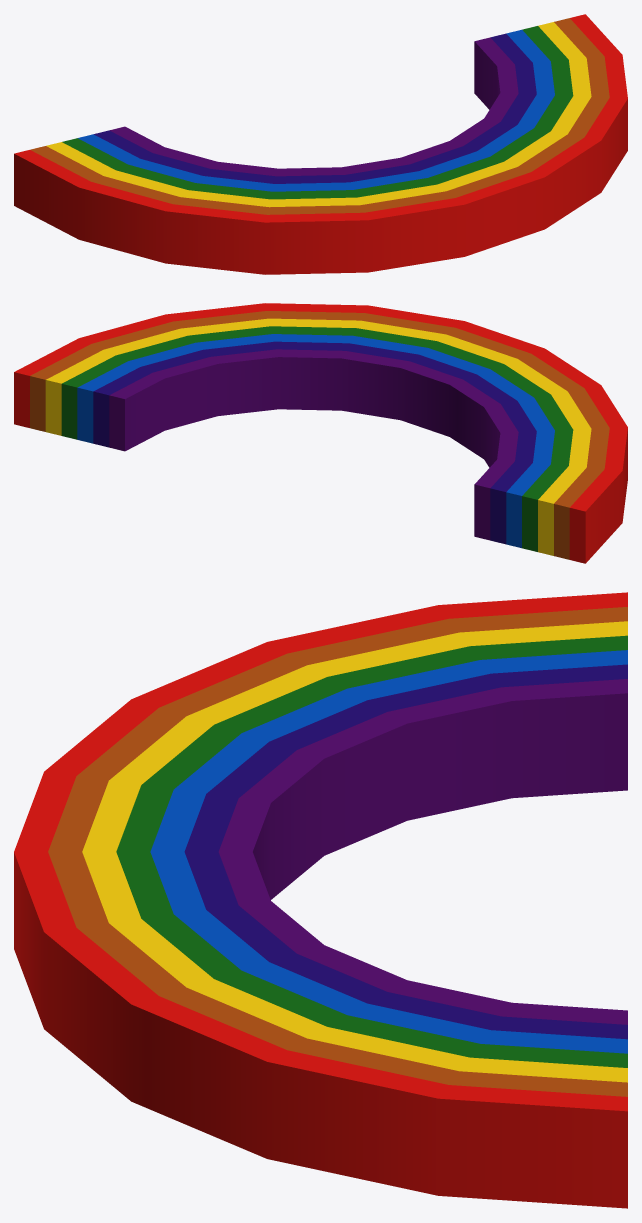
Rendered from Rainbow_01.obj.
The picture shows the model from 3 angles, top to bottom: view 1: azimuth 30°, elevation 25°; view 2: azimuth 150°, elevation 25°; view 3: azimuth 270°, elevation 25°; orthographic projection. The views are drawn at different scales.
Visible parts, largest first — view 1: pPipe1; view 2: pPipe1; view 3: pPipe1.
Boxes of the visible parts, box(x1,y1,x2,y2) form: pPipe1: box(14, 14, 627, 274); pPipe1: box(14, 303, 627, 563); pPipe1: box(14, 592, 627, 1208).
Size of the model in its own units: 444 by 38.82 by 222.
